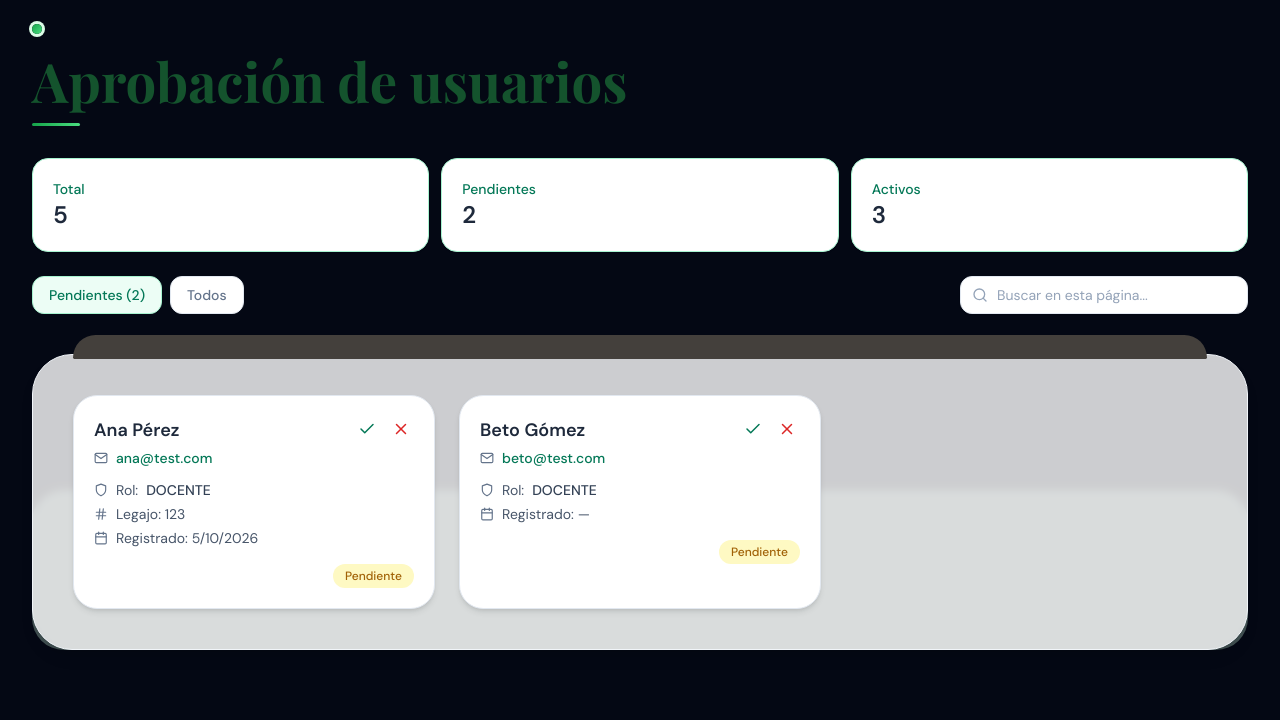
it: AprobacionUsuarios Page › la búsqueda filtra por nombre y por email
Type "beto" into the field with placeholder "Buscar en esta página..." at (1104, 295), box [960, 276, 1248, 314]
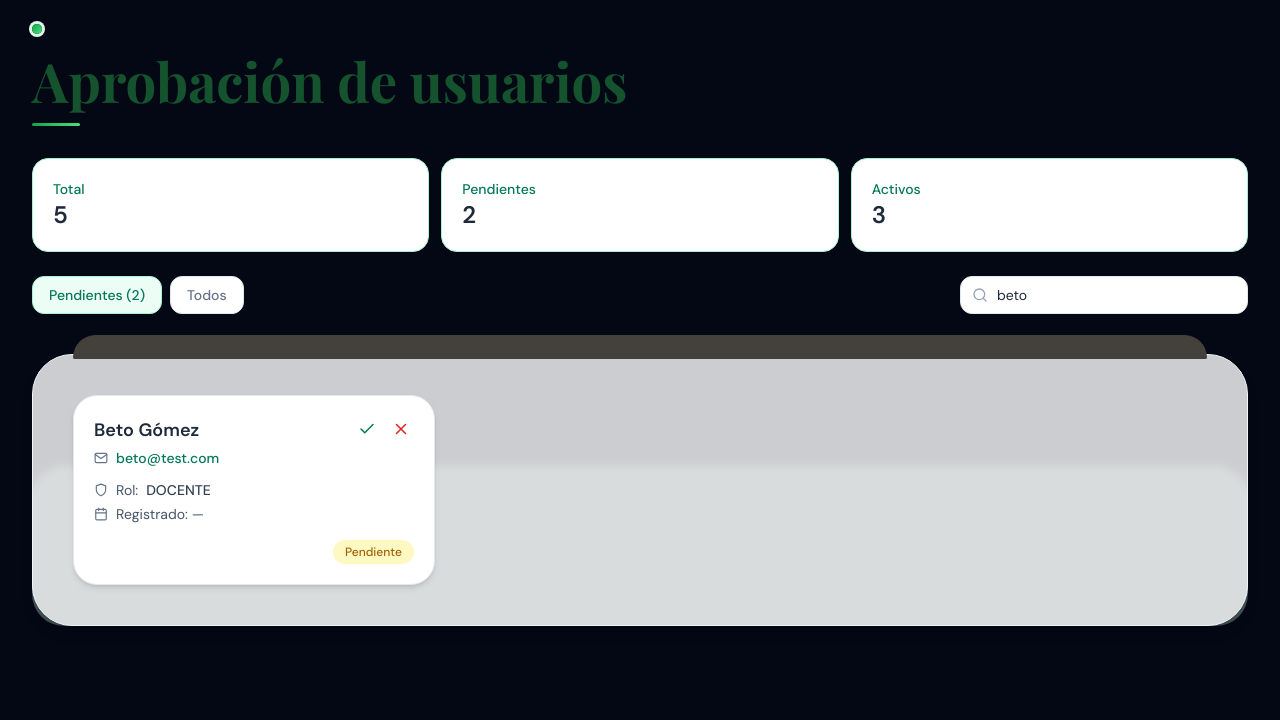
Expected: the heading "Beto Gómez" is shown, [94, 416, 199, 444]
Expected: the heading "Ana Pérez" is gone
Replace the text in the field with placeholder "Buscar en esta página..." with "ana@test" at (1104, 295), box [960, 276, 1248, 314]
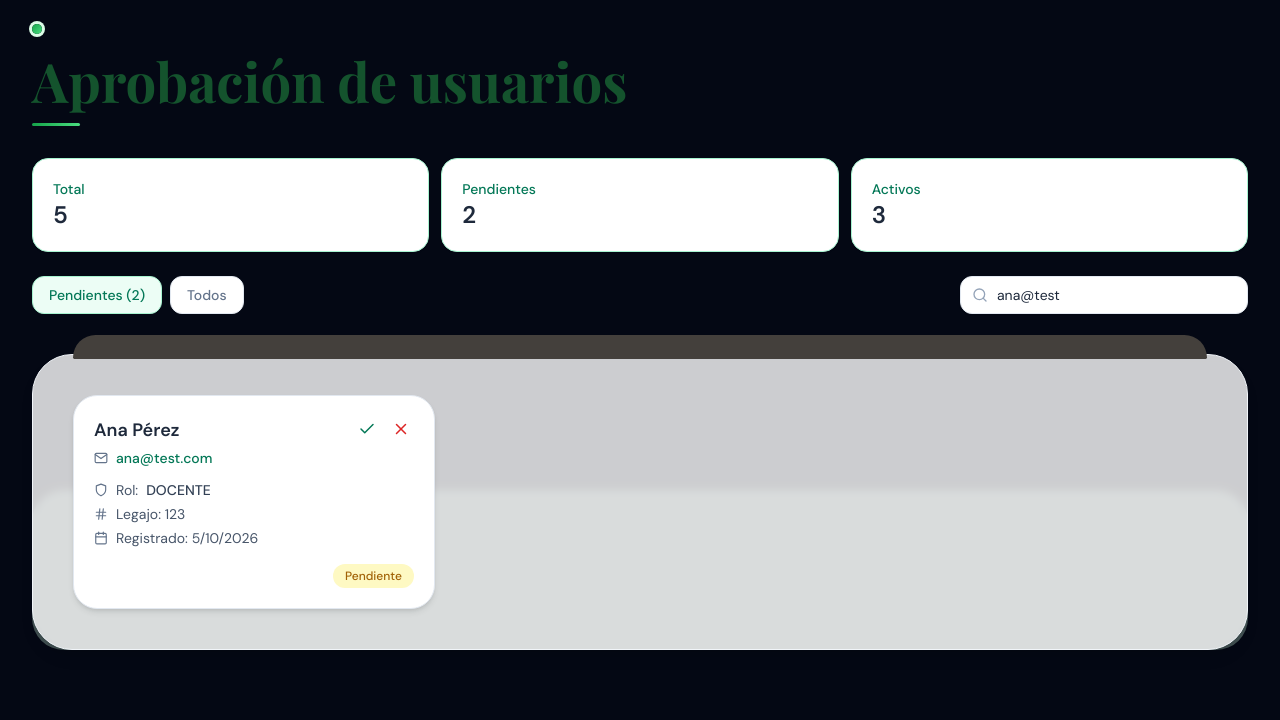
Expected: the heading "Ana Pérez" is shown, [94, 416, 180, 444]
Expected: the heading "Beto Gómez" is gone
